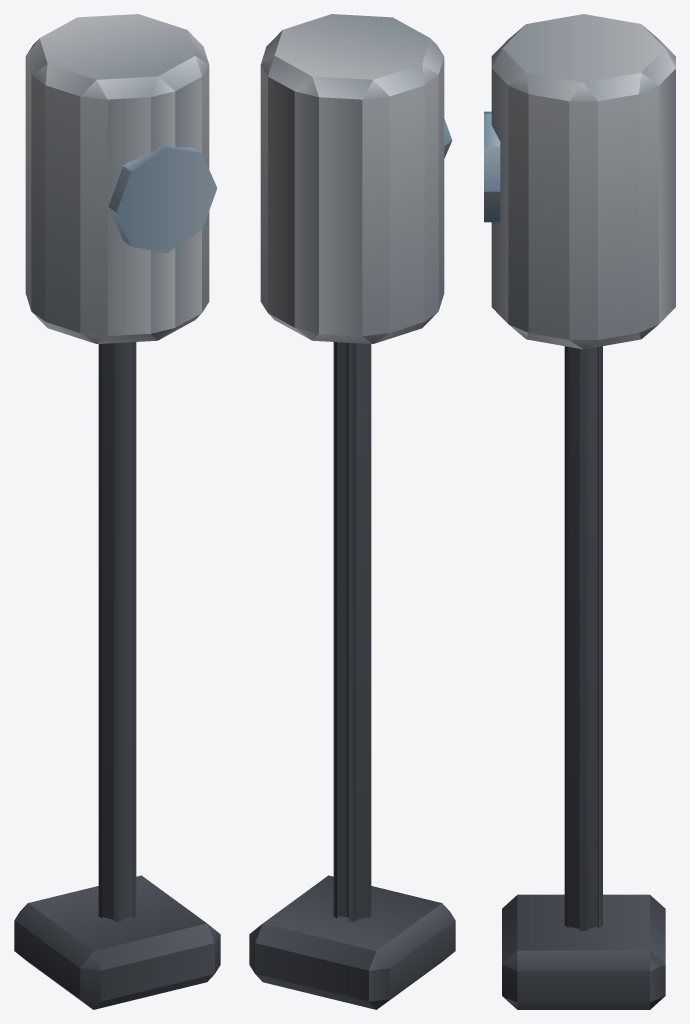
Rendered from dt_parking_meter.fbx.
The picture shows the model from 3 angles, left to right: view 1: azimuth 30°, elevation 25°; view 2: azimuth 150°, elevation 25°; view 3: azimuth 270°, elevation 25°; orthographic projection.
Visible parts, largest first — view 1: dt_parking_meter; view 2: dt_parking_meter; view 3: dt_parking_meter.
Boxes of the visible parts, x1=… form: dt_parking_meter: x1=14, y1=14, x2=220, y2=1009; dt_parking_meter: x1=249, y1=14, x2=455, y2=1009; dt_parking_meter: x1=484, y1=14, x2=675, y2=1009.
Bounding box in the file's own units: 68.02 × 380 × 70.8.
